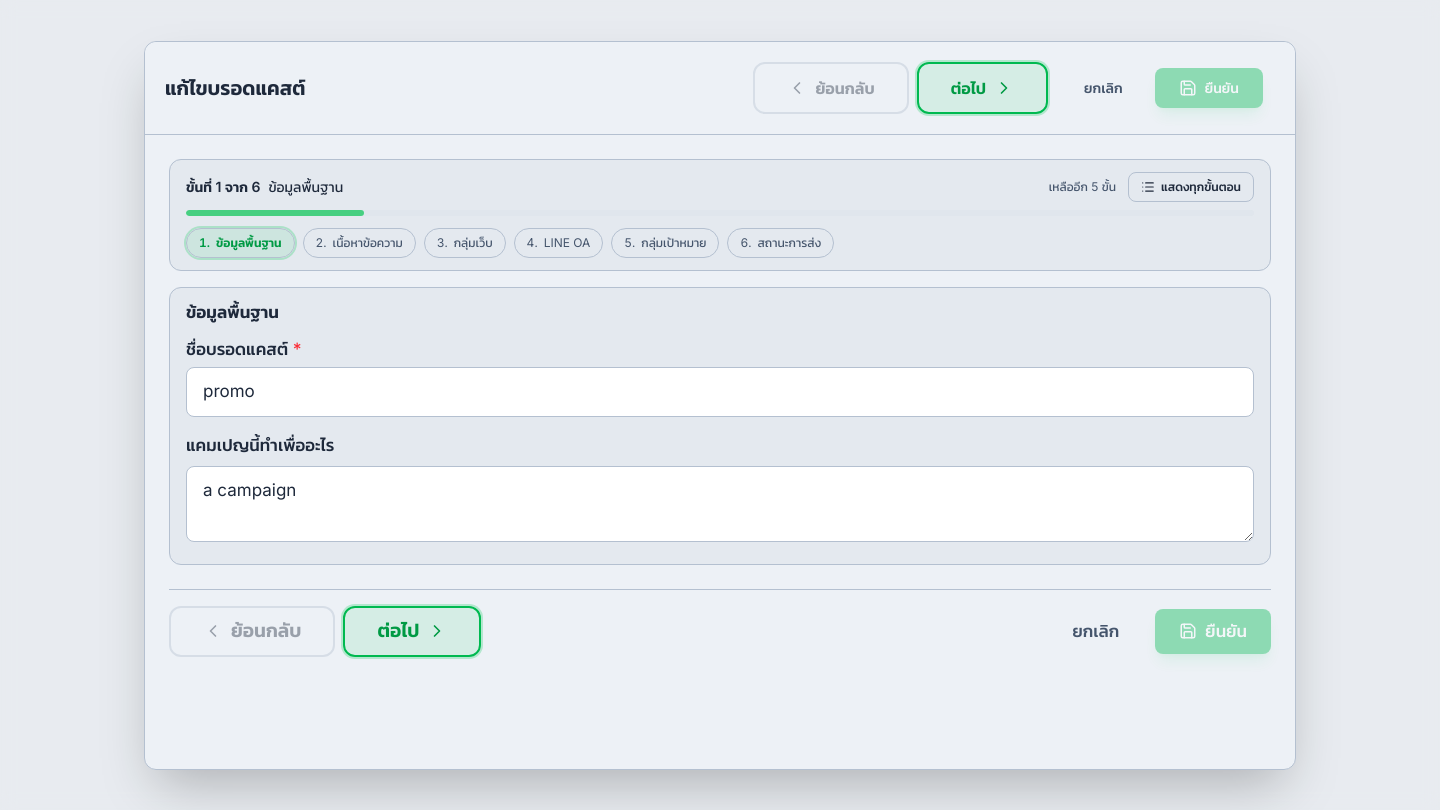
it: the form — switching to Broadcast says what happened › ⭐ a broadcast with NO conditions is left alone
The width and height of the screenshot is (1440, 810).
What coordinates should you click on to do the following:
click the button with test id "-toggle"
I would click on:
 (1191, 186)
Its box is x1=1128 y1=172 x2=1254 y2=202.
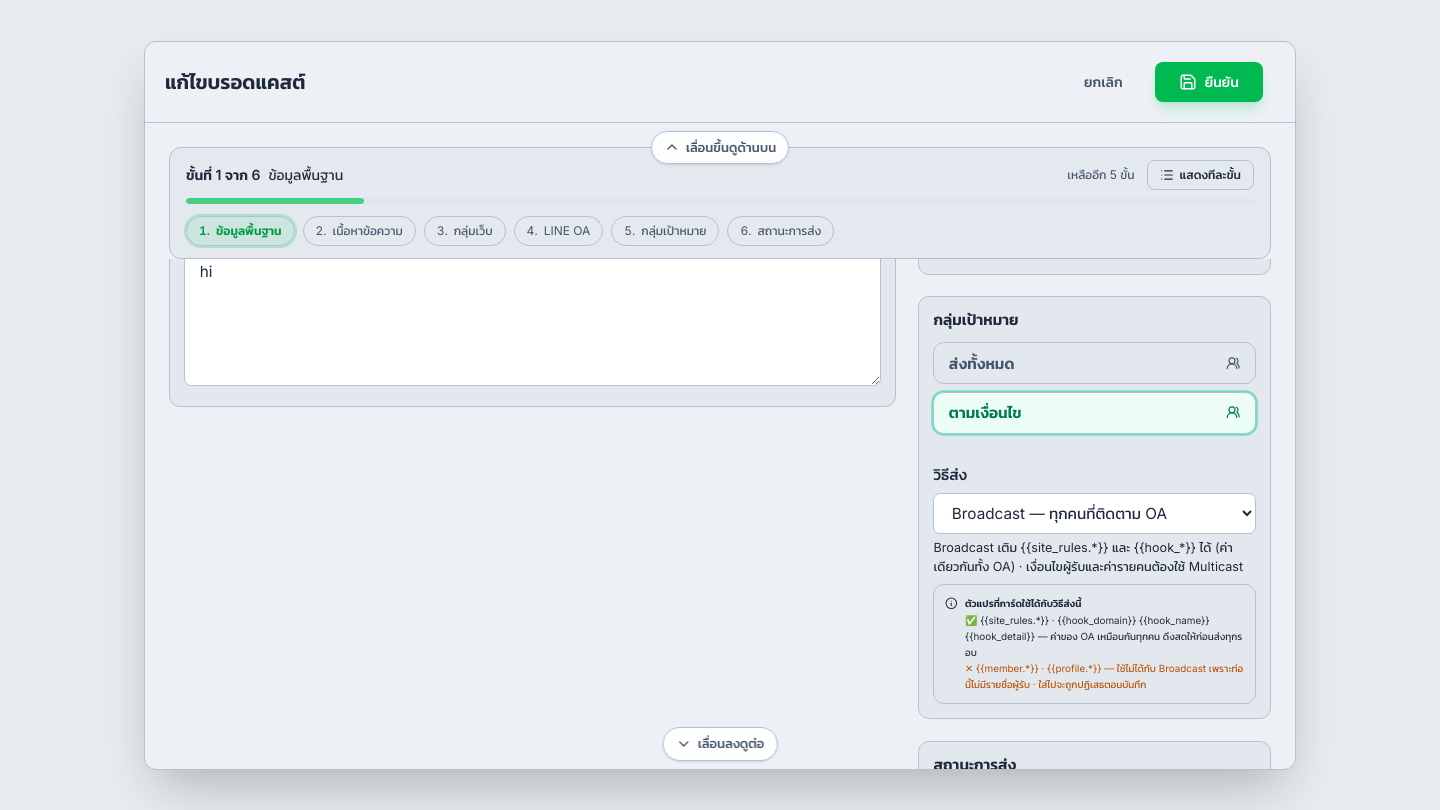
Expected: the dropdown named "send_kind" is shown, x1=934 y1=493 x2=1256 y2=534
